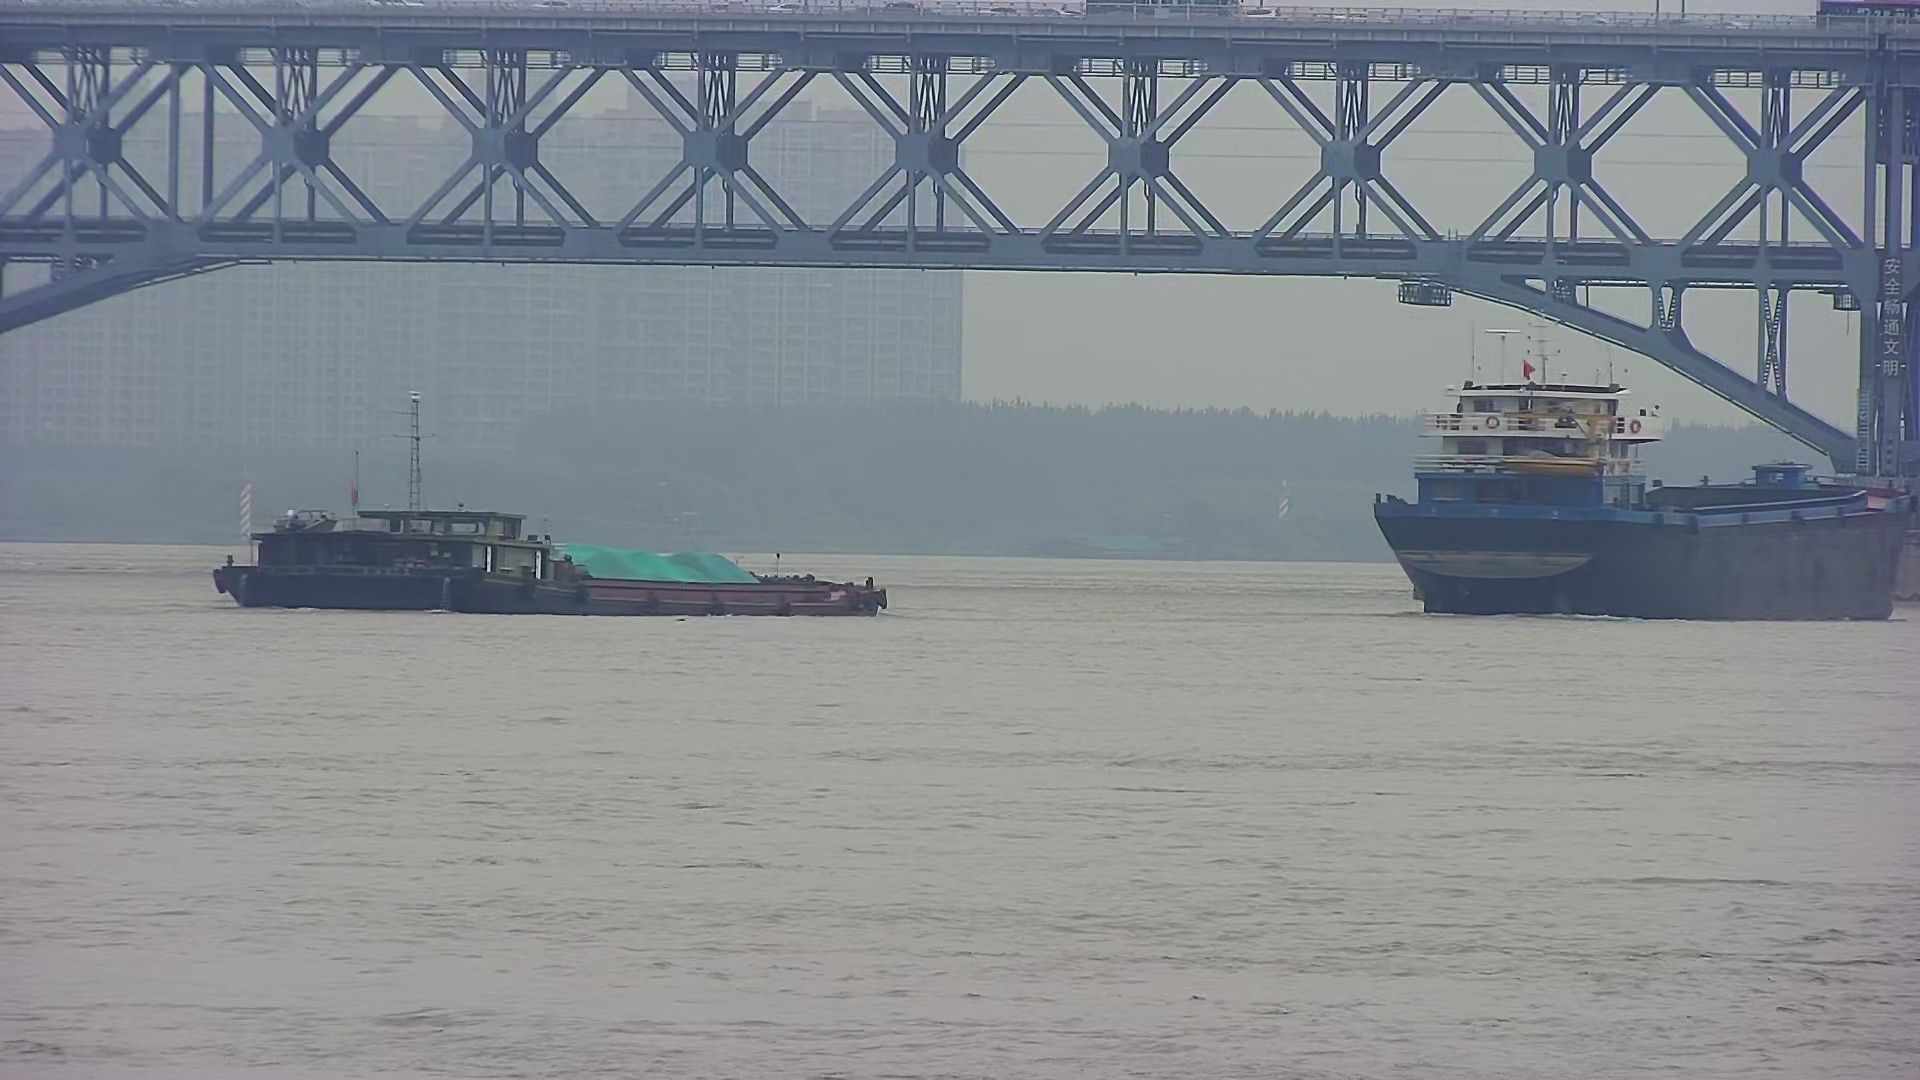bridge: (3, 4, 1913, 460)
ship: (1377, 324, 1909, 636), (214, 492, 899, 628)
